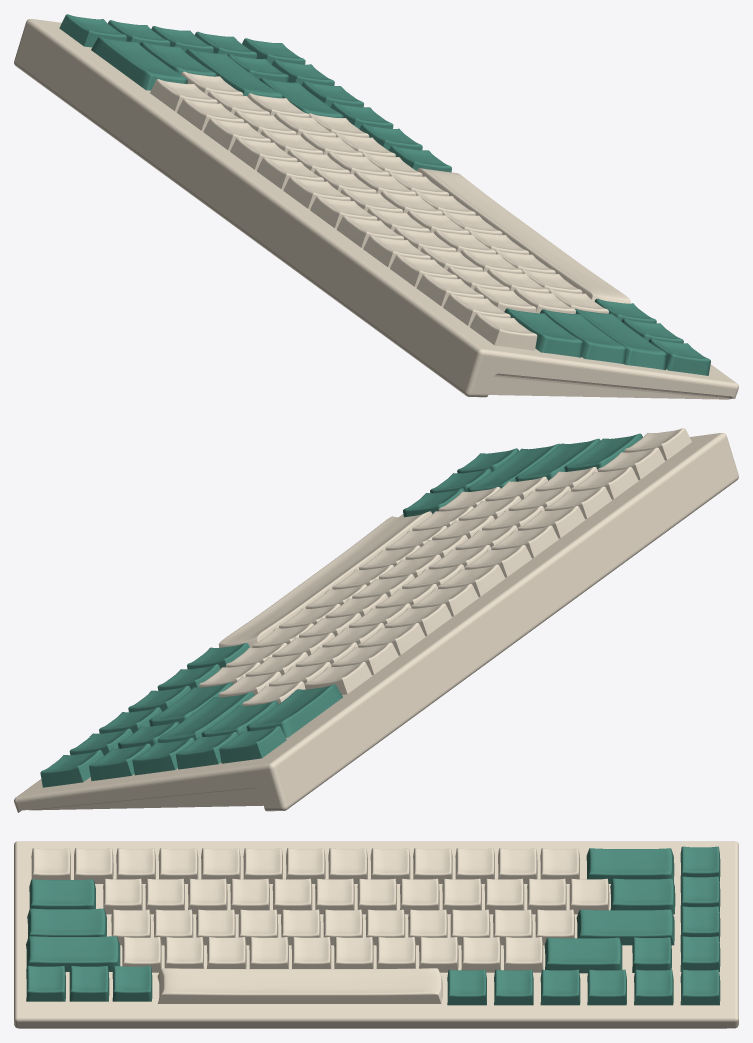
The model's file is keyboard.glb.
The picture shows the model from 3 angles, top to bottom: view 1: azimuth 30°, elevation 25°; view 2: azimuth 150°, elevation 25°; view 3: azimuth 270°, elevation 25°; orthographic projection. The views are drawn at different scales.
Visible parts, largest first — view 1: Plane, Cube, Cube.017, Cube.018, Cube.019, Cube.010, Cube.020, Cube.003, Cube.001, Cube.006, Cube.005, Cube.004 (+7 smaller); view 2: Plane, Cube, Cube.017, Cube.018, Cube.019, Cube.010, Cube.003, Cube.020, Cube.001, Cube.008, Cube.006, Cube.005 (+7 smaller); view 3: Plane, Cube, Cube.017, Cube.019, Cube.018, Cube.020, Cube.010, Cube.003, Cube.006, Cube.008, Cube.001, Cube.013 (+7 smaller).
Boxes of the visible parts, x1=… form: Plane: x1=14, y1=19, x2=738, y2=399; Cube: x1=150, y1=79, x2=537, y2=350; Cube.017: x1=181, y1=71, x2=536, y2=312; Cube.018: x1=247, y1=93, x2=575, y2=313; Cube.019: x1=308, y1=113, x2=608, y2=313; Cube.010: x1=242, y1=38, x2=451, y2=172; Cube.020: x1=417, y1=168, x2=630, y2=303; Cube.003: x1=59, y1=14, x2=256, y2=58; Cube.001: x1=91, y1=37, x2=187, y2=90; Cube.006: x1=575, y1=309, x2=666, y2=370; Cube.005: x1=540, y1=309, x2=626, y2=364; Cube.004: x1=504, y1=308, x2=582, y2=357; Plane: x1=14, y1=433, x2=738, y2=812; Cube: x1=304, y1=428, x2=691, y2=694; Cube.017: x1=242, y1=467, x2=597, y2=705; Cube.018: x1=219, y1=476, x2=547, y2=697; Cube.019: x1=199, y1=487, x2=500, y2=687; Cube.010: x1=40, y1=643, x2=249, y2=787; Cube.003: x1=89, y1=726, x2=286, y2=781; Cube.020: x1=218, y1=511, x2=432, y2=647; Cube.001: x1=246, y1=684, x2=342, y2=737; Cube.008: x1=157, y1=692, x2=254, y2=742; Cube.006: x1=467, y1=443, x2=560, y2=491; Cube.005: x1=515, y1=438, x2=600, y2=481; Plane: x1=14, y1=841, x2=738, y2=1028; Cube: x1=31, y1=848, x2=579, y2=883; Cube.017: x1=103, y1=878, x2=609, y2=914; Cube.019: x1=122, y1=937, x2=543, y2=972; Cube.018: x1=111, y1=909, x2=574, y2=945; Cube.020: x1=157, y1=968, x2=442, y2=1003; Cube.010: x1=447, y1=969, x2=720, y2=1005; Cube.003: x1=680, y1=846, x2=720, y2=971; Cube.006: x1=26, y1=936, x2=120, y2=971; Cube.008: x1=576, y1=909, x2=674, y2=945; Cube.001: x1=586, y1=848, x2=674, y2=883; Cube.013: x1=544, y1=937, x2=622, y2=973.
Bounding box in the file's own units: 2.81 × 1.18 × 8.1.
